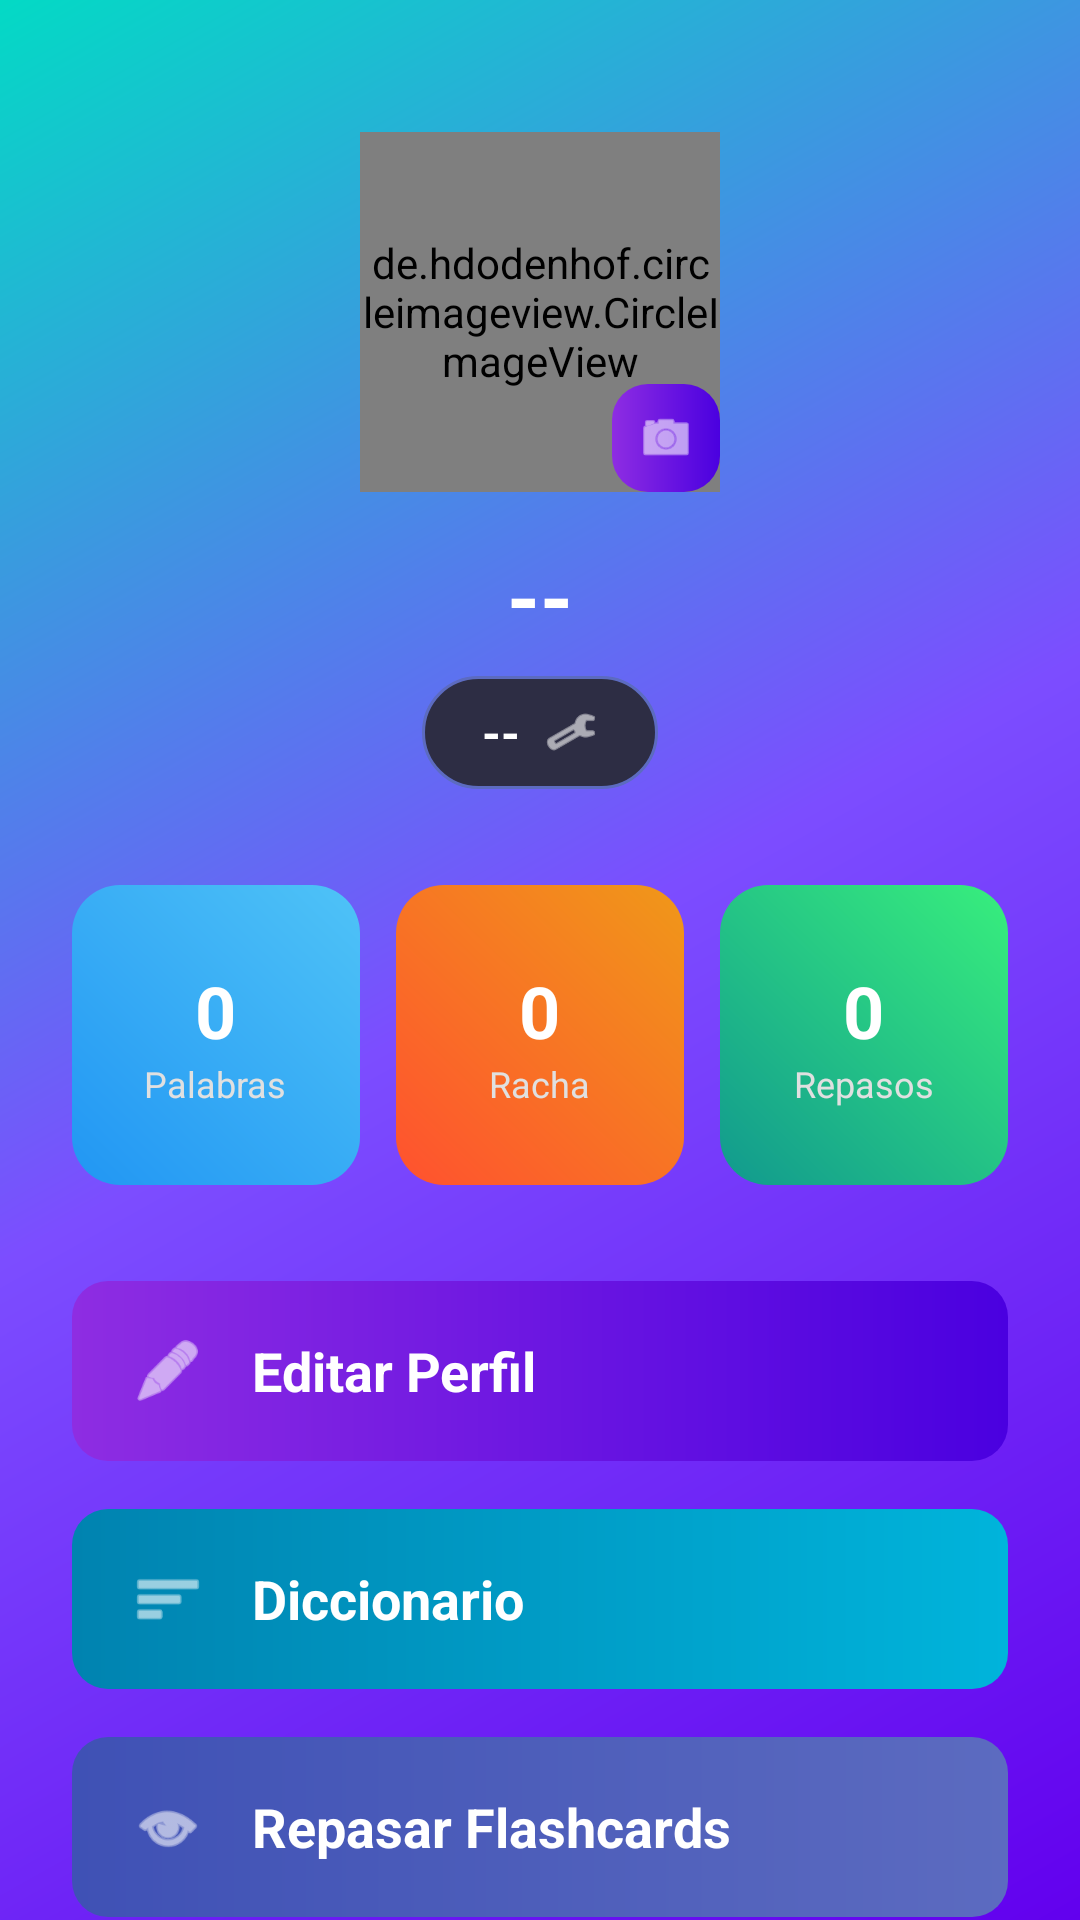

Icon click points for this 1080px×1920px phone screenshot, format point (x, y):
camera: point (666, 438)
preferences: point (571, 732)
sort by size: point (168, 1599)
view: point (168, 1828)
